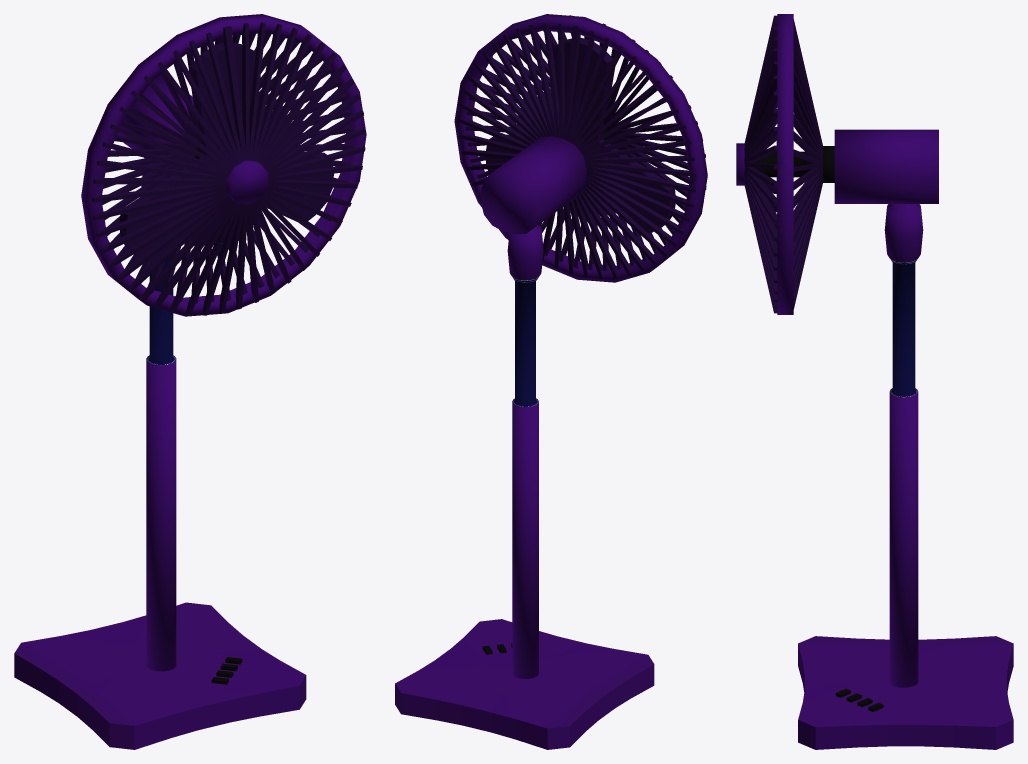
File: Kipas angin.fbx
The picture shows the model from 3 angles, left to right: view 1: azimuth 30°, elevation 25°; view 2: azimuth 150°, elevation 25°; view 3: azimuth 270°, elevation 25°; orthographic projection. The views are drawn at different scales.
Visible parts, largest first — view 1: Kipas_LOD0; view 2: Kipas_LOD0; view 3: Kipas_LOD0.
Part boxes in pixels (bbox=[...]): Kipas_LOD0: bbox=[14, 14, 366, 749]; Kipas_LOD0: bbox=[395, 14, 707, 749]; Kipas_LOD0: bbox=[736, 14, 1013, 749].
Size of what is drawn, in the model's own units: 101 by 249 by 92.28.
Materials: 1 (1 with a texture image).
